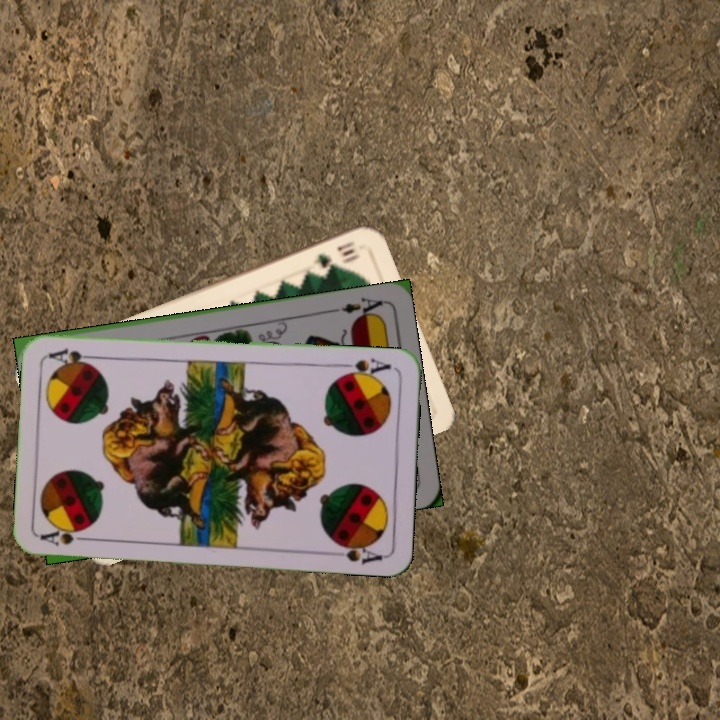EA: (327, 293, 385, 322)
G10: (309, 237, 361, 271)
SA: (336, 354, 394, 381), (37, 524, 96, 548)
